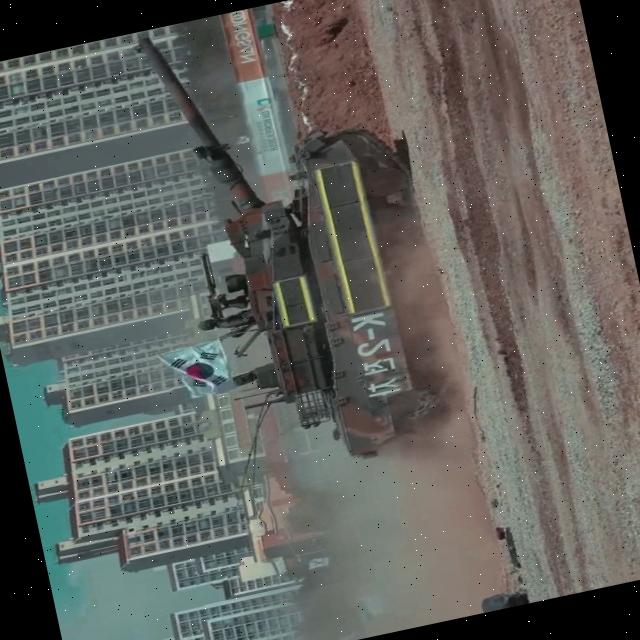korea tank: (129, 0, 466, 492)
